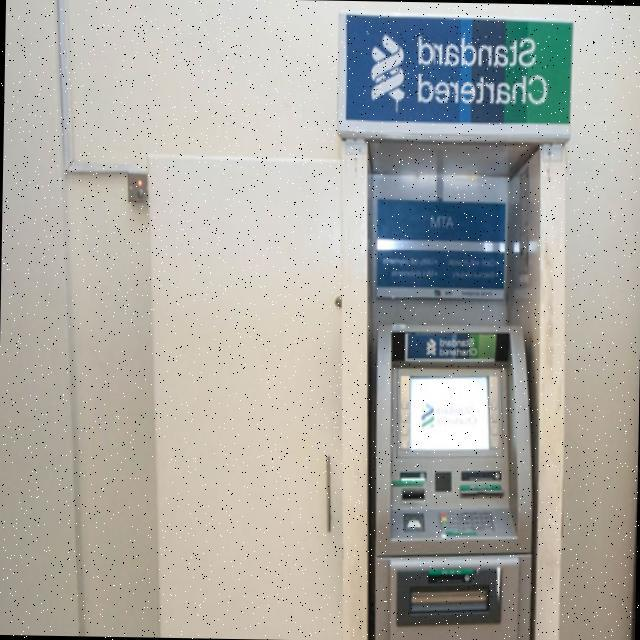Standard Chartered: (364, 32, 549, 105)
